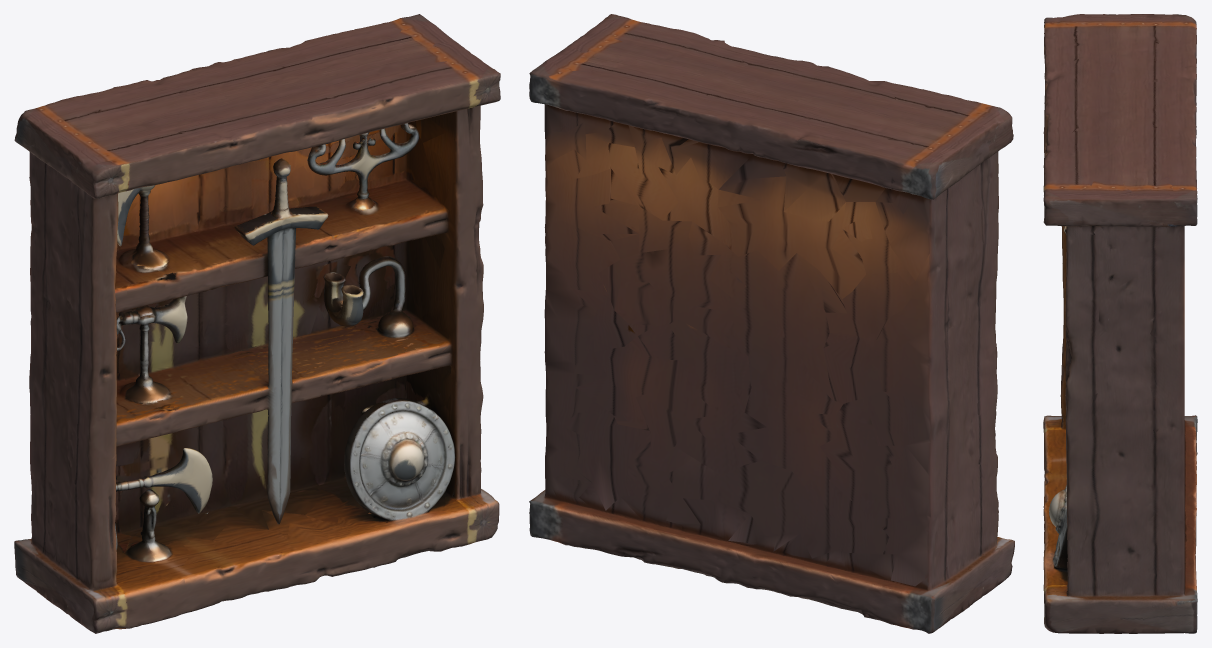
Rendered from dwarven_weapon_store_LOD.fbx.
3 views of the same model, side by side, from view 1: azimuth 30°, elevation 25°; view 2: azimuth 150°, elevation 25°; view 3: azimuth 270°, elevation 25° (orthographic). The views are drawn at different scales.
Parts seen in each view (by area): view 1: dwaven_weapon_store_LOD0; view 2: dwaven_weapon_store_LOD0; view 3: dwaven_weapon_store_LOD0.
Boxes of the visible parts, x1=… form: dwaven_weapon_store_LOD0: x1=14, y1=14, x2=500, y2=633; dwaven_weapon_store_LOD0: x1=529, y1=14, x2=1014, y2=633; dwaven_weapon_store_LOD0: x1=1043, y1=14, x2=1197, y2=633.
Size of what is drawn, in the model's own units: 175 by 191 by 61.2.
1 material, 1 textured.
